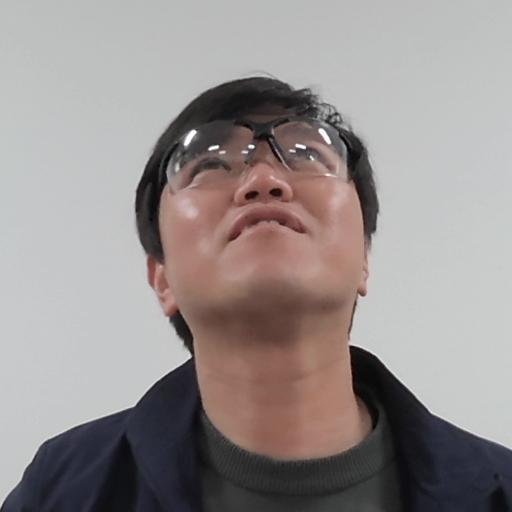glasses: (121, 80, 386, 348)
